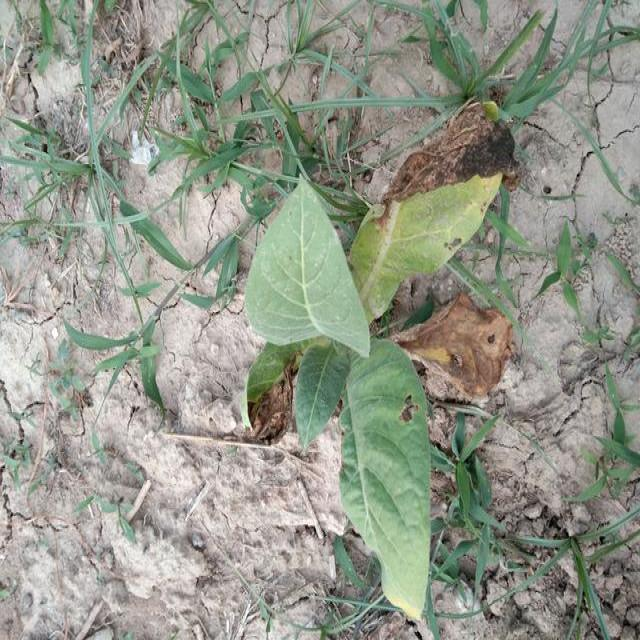crop: (241, 100, 505, 619)
